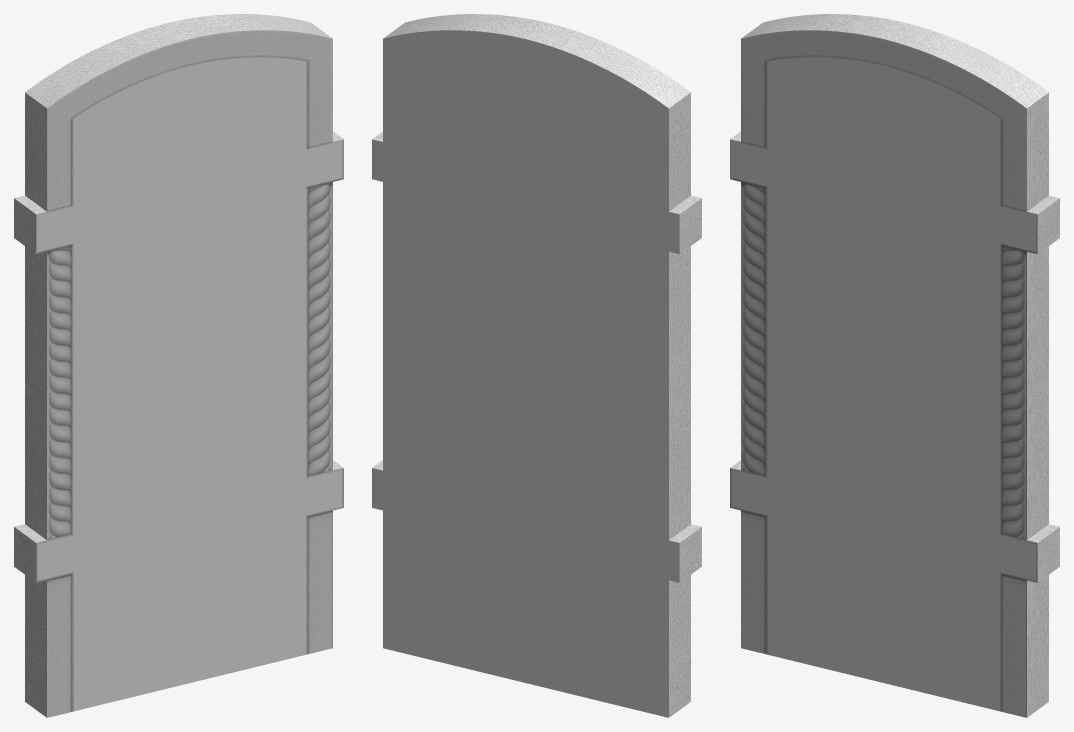
File: cn65e3c7baf4_tkf.glb
The picture shows the model from 3 angles, left to right: view 1: azimuth 30°, elevation 25°; view 2: azimuth 150°, elevation 25°; view 3: azimuth 330°, elevation 25°; orthographic projection.
Parts seen in each view (by area): view 1: Pam-d03-206, Pam-d03-206_2_notexture; view 2: Pam-d03-206, Pam-d03-206_2_notexture; view 3: Pam-d03-206, Pam-d03-206_2_notexture.
Part boxes in pixels (bbox=[...]): Pam-d03-206: bbox=[37, 57, 342, 711]; Pam-d03-206_2_notexture: bbox=[14, 14, 343, 717]; Pam-d03-206: bbox=[372, 30, 679, 717]; Pam-d03-206_2_notexture: bbox=[372, 14, 701, 717]; Pam-d03-206: bbox=[731, 57, 1036, 711]; Pam-d03-206_2_notexture: bbox=[730, 14, 1059, 717].
Size of the model in its own units: 0.4 by 0.8 by 0.05.
Materials: 1 (1 with a texture image).
